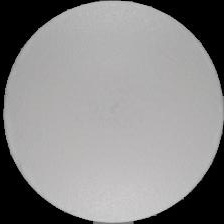0615-5578: (0, 0, 224, 224)
